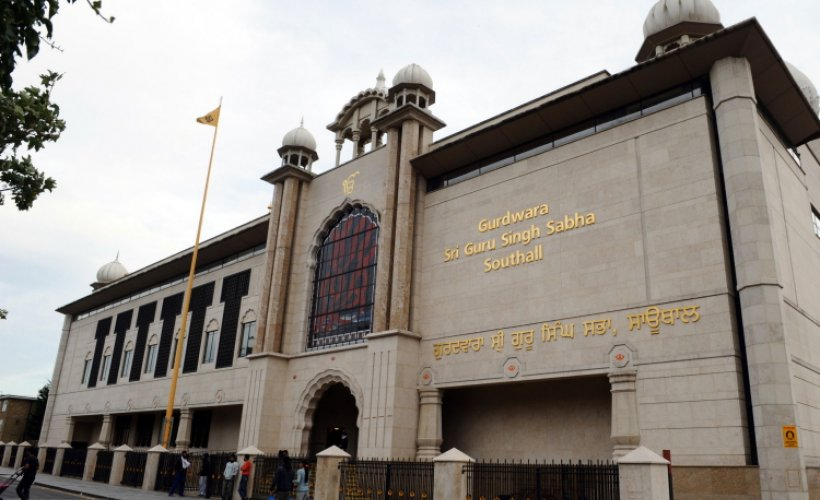Gurdwara: (74, 1, 808, 457)
